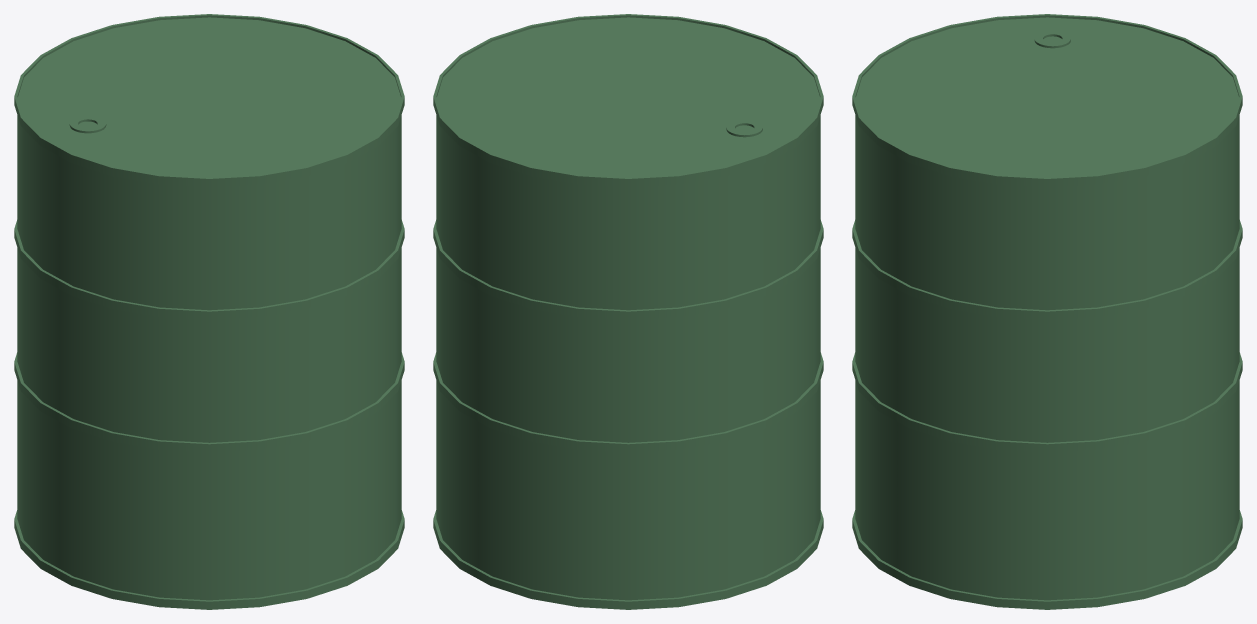
The model's file is Stoles Barrel.dae.
3 renders of one model, left to right at view 1: azimuth 30°, elevation 25°; view 2: azimuth 150°, elevation 25°; view 3: azimuth 270°, elevation 25°, orthographic.
Visible parts, largest first — view 1: group_0 (×5); view 2: group_0 (×5); view 3: group_0 (×5).
Boxes of the visible parts, x1=… form: group_0 (×5): x1=14, y1=14, x2=404, y2=609; group_0 (×5): x1=433, y1=14, x2=823, y2=609; group_0 (×5): x1=852, y1=14, x2=1242, y2=609.
Size of the model in its own units: 33.62 by 33.62 by 40.94.
